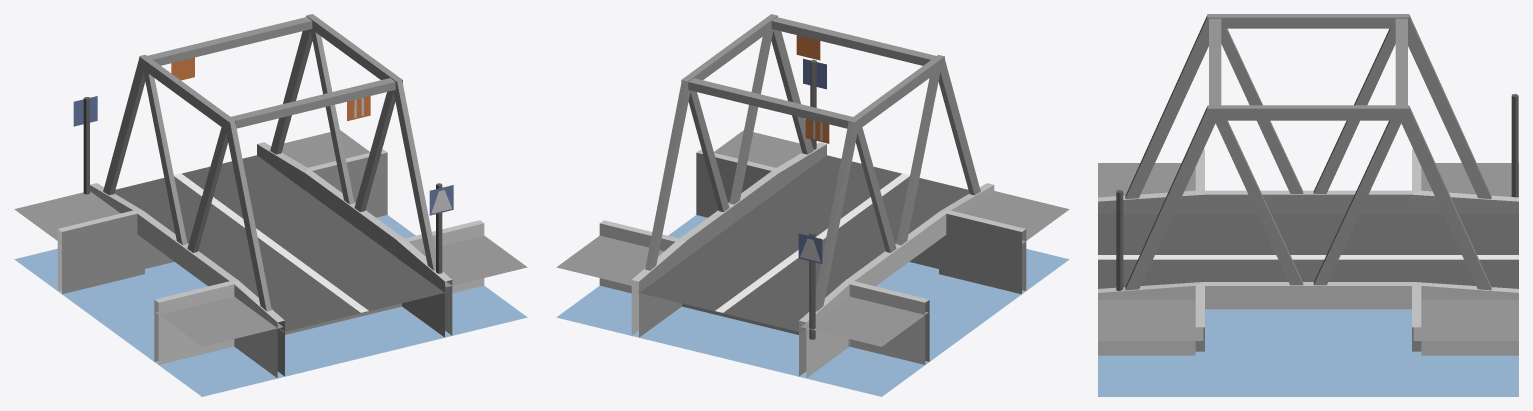
The model's file is road_tile_bridge_1x1_003.fbx.
3 views of the same model, side by side, from view 1: azimuth 30°, elevation 25°; view 2: azimuth 150°, elevation 25°; view 3: azimuth 270°, elevation 25° (orthographic). The views are drawn at different scales.
Visible parts, largest first — view 1: road_tile_bridge_1x1_003; view 2: road_tile_bridge_1x1_003; view 3: road_tile_bridge_1x1_003.
Boxes of the visible parts, left/top/right/bottom form: road_tile_bridge_1x1_003: left=14, top=14, right=527, bottom=396; road_tile_bridge_1x1_003: left=556, top=14, right=1069, bottom=396; road_tile_bridge_1x1_003: left=1098, top=14, right=1518, bottom=396.
Bounding box in the file's own units: 800 × 517 × 800.
